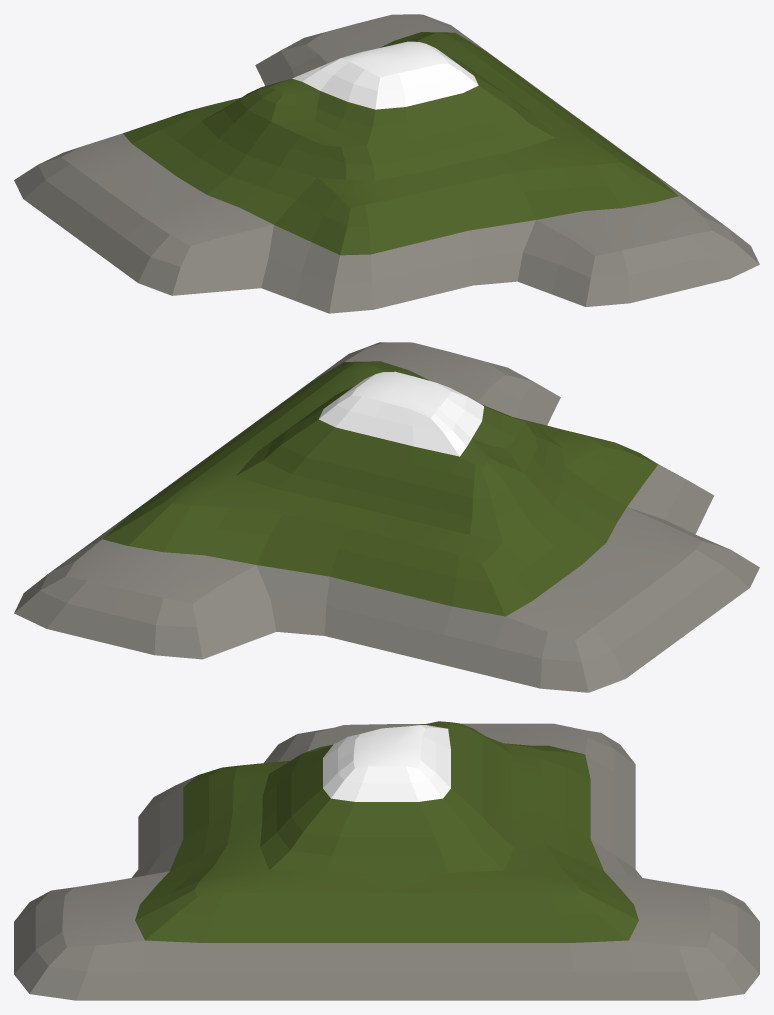
The model's file is Island7.FBX.
3 renders of one model, top to bottom at view 1: azimuth 30°, elevation 25°; view 2: azimuth 150°, elevation 25°; view 3: azimuth 270°, elevation 25°, orthographic. The views are drawn at different scales.
Parts seen in each view (by area): view 1: Plane001; view 2: Plane001; view 3: Plane001.
Boxes of the visible parts, <box> form: Plane001: <box>14,14,759,313</box>; Plane001: <box>14,342,759,692</box>; Plane001: <box>14,721,759,1000</box>.
Bounding box in the file's own units: 50 × 13.01 × 60.
